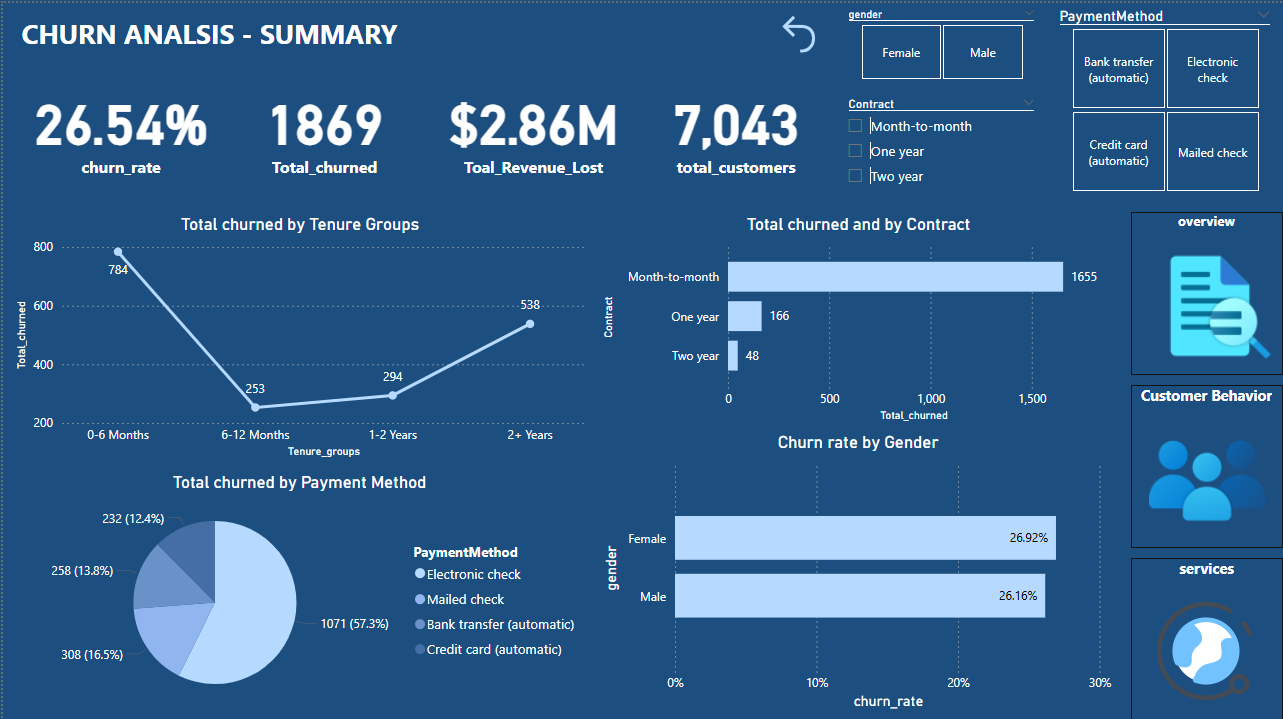

The page's visual inventory and layout, read from the dashboard file:
{"tool":"powerbi","page":{"name":"overview","canvas":[1280,720],"ordinal":0},"visuals":[{"type":"image","box":[1134.9,235.4,145.1,135.4],"z":0,"group":"g2"},{"type":"image","box":[1136,593,135,110],"z":500,"group":"g2"},{"type":"textbox","box":[14,7,444,52],"z":1000},{"type":"image","box":[1136.5,410.8,135.2,126.2],"z":1000,"group":"g2"},{"type":"card","fields":{"Values":["measures (2).Revenue Lost"]},"box":[421,51,219,149],"z":2000},{"type":"pageNavigator","box":[1128,209,151.6,511],"z":2000,"group":"g2"},{"type":"card","fields":{"Values":["measures (2).churn_rate"]},"box":[14,51,208,149],"z":3000},{"type":"card","fields":{"Values":["measures (2).Total_churned"]},"box":[222,51,199,149],"z":4000},{"type":"lineChart","title":"Total churned by Tenure Groups","fields":{"Category":["Tenure_maping.Tenure_Buckets"],"Y":["measures (2).Total_churned"]},"box":[8,211,579,248],"z":5000},{"type":"card","fields":{"Values":["measures (2).total_customers"]},"box":[640,51.3,185.6,148.7],"z":6000},{"type":"clusteredBarChart","title":"Total churned and by Contract","fields":{"Category":["Customer_Churn.Contract"],"Y":["measures (2).Total_churned"]},"box":[595.3,211.4,522.1,211.4],"z":7000},{"type":"slicer","fields":{"Values":["Customer_Churn.gender"]},"box":[833,0.2,210.6,82.4],"z":8000,"group":"g1"},{"type":"pieChart","title":"Total churned by Payment Method","fields":{"Y":["measures (2).Total_churned"],"Category":["Customer_Churn.PaymentMethod"]},"box":[8.1,468.8,578.1,242.1],"z":8000},{"type":"slicer","fields":{"Values":["Customer_Churn.Contract"]},"box":[833,89.5,210.7,109.5],"z":9000,"group":"g1"},{"type":"barChart","title":"Churn rate by Gender","fields":{"Category":["Customer_Churn.gender"],"Y":["measures (2).churn_rate"]},"box":[595.3,429.1,521.2,281.8],"z":9000},{"type":"slicer","fields":{"Values":["Customer_Churn.PaymentMethod"]},"box":[1043.8,0,236.2,194.9],"z":10000,"group":"g1"},{"type":"actionButton","box":[767,7,59,44],"z":10000},{"type":"group","id":"g1","title":"Group 2","box":[833,0,447,199],"z":11000},{"type":"group","id":"g2","title":"Group 1","box":[1128,209,152,511],"z":12000}]}

Visuals, with their boxes in screenshot pixels (x1, y1, x2, y2), scaled from the page's 1280x720 canvas onto the 1283x719 screenshot:
image: crop(1138, 235, 1282, 370)
image: crop(1139, 592, 1274, 702)
textbox: crop(14, 7, 459, 59)
image: crop(1139, 410, 1275, 536)
card - measures (2).Revenue Lost: crop(422, 51, 642, 200)
pageNavigator: crop(1131, 209, 1282, 718)
card - measures (2).churn_rate: crop(14, 51, 223, 200)
card - measures (2).Total_churned: crop(223, 51, 422, 200)
"Total churned by Tenure Groups" lineChart: crop(8, 211, 588, 458)
card - measures (2).total_customers: crop(642, 51, 828, 200)
"Total churned and by Contract" clusteredBarChart: crop(597, 211, 1120, 422)
slicer - Customer_Churn.gender: crop(835, 0, 1046, 82)
"Total churned by Payment Method" pieChart: crop(8, 468, 588, 710)
slicer - Customer_Churn.Contract: crop(835, 89, 1046, 199)
"Churn rate by Gender" barChart: crop(597, 429, 1119, 710)
slicer - Customer_Churn.PaymentMethod: crop(1046, 0, 1282, 195)
actionButton: crop(769, 7, 828, 51)
"Group 2" group: crop(835, 0, 1282, 199)
"Group 1" group: crop(1131, 209, 1282, 718)
